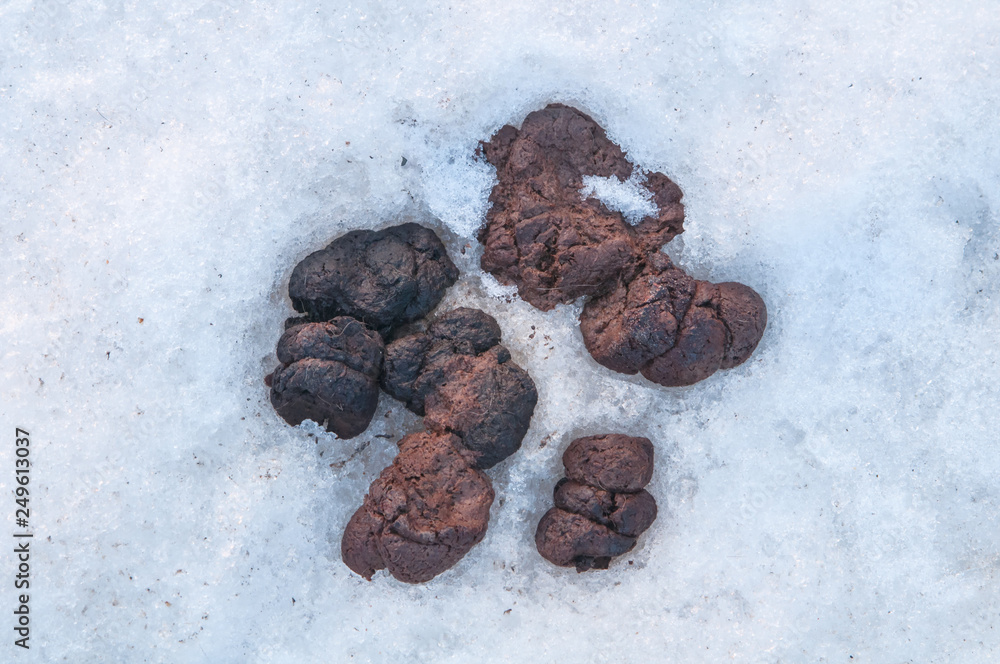Dog: (285, 110, 761, 564)
